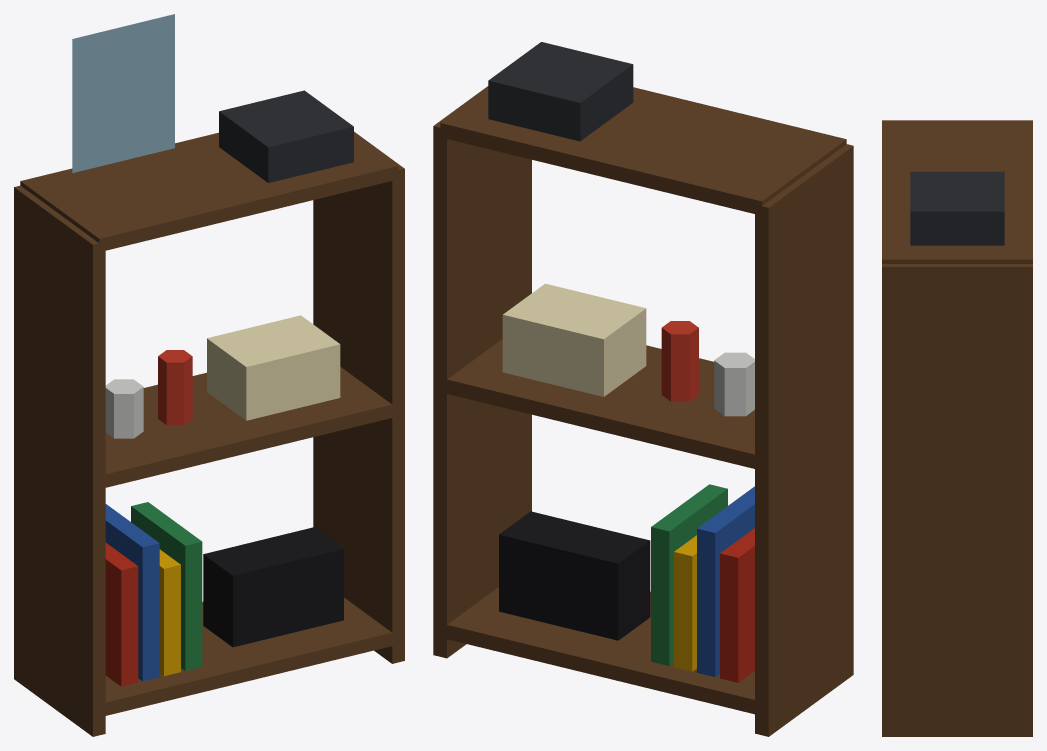
The model's file is prop_small-shelf.b3dc004b6f46.glb.
3 views of the same model, side by side, from view 1: azimuth 30°, elevation 25°; view 2: azimuth 150°, elevation 25°; view 3: azimuth 270°, elevation 25° (orthographic). The views are drawn at different scales.
Visible parts, largest first — view 1: body; view 2: body; view 3: body.
Boxes of the visible parts, bbox=[...] form: body: bbox=[14, 14, 404, 736]; body: bbox=[433, 42, 853, 736]; body: bbox=[882, 120, 1032, 736].
Size of the model in its own units: 0.73 by 1.41 by 0.32.
